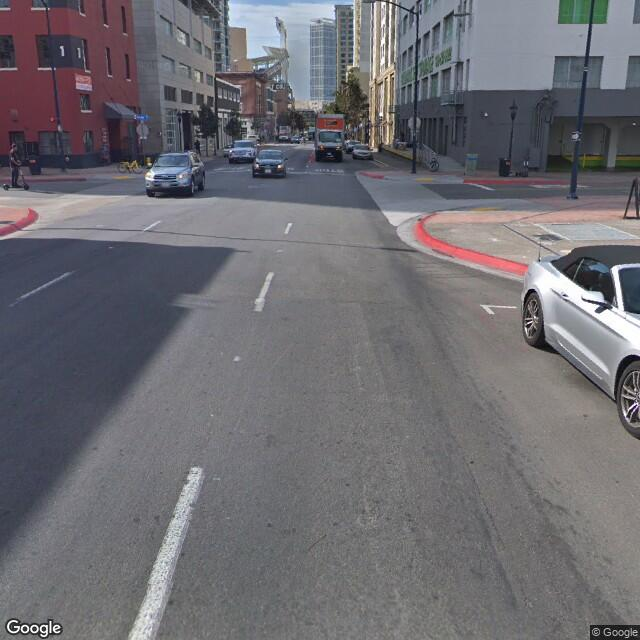road line: (115, 439, 232, 636), (236, 264, 281, 329), (4, 268, 86, 301)
